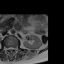CCS_normal: (10, 44, 12, 55)
LFS_normal: (14, 45, 16, 52)
LLS_normal: (12, 44, 14, 52)
RFS_normal: (6, 45, 8, 52)
RLS_normal: (8, 45, 10, 52)
